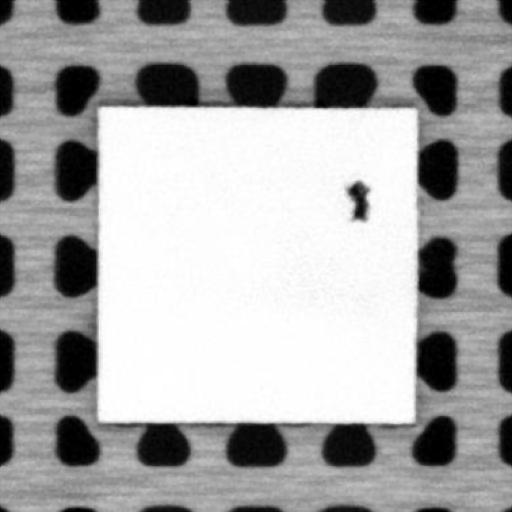DIE_INK: (343, 177, 371, 222)
